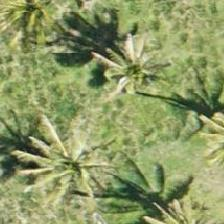coconut_tree: (16, 113, 106, 203), (87, 19, 177, 109), (0, 0, 63, 58)
